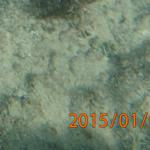dead: (3, 12, 140, 105)
